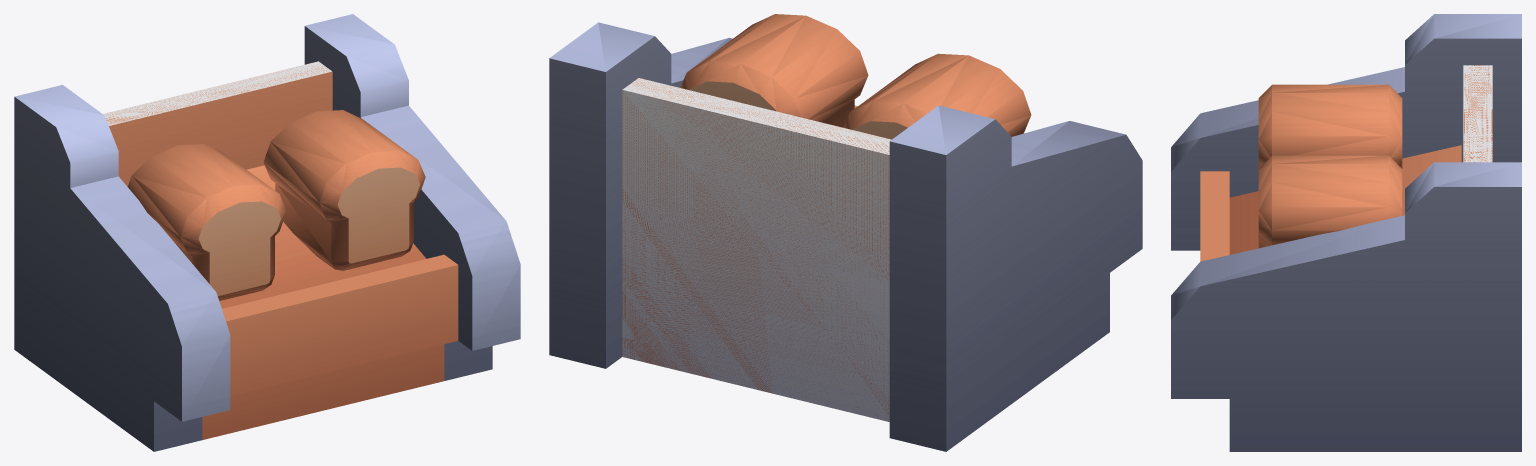
The model's file is display_bread.fbx.
3 views of the same model, side by side, from view 1: azimuth 30°, elevation 25°; view 2: azimuth 150°, elevation 25°; view 3: azimuth 270°, elevation 25° (orthographic). The views are drawn at different scales.
Parts seen in each view (by area): view 1: display_bread_LOD0; view 2: display_bread_LOD0; view 3: display_bread_LOD0.
Boxes of the visible parts, left/top/right/bottom form: display_bread_LOD0: left=14, top=14, right=520, bottom=451; display_bread_LOD0: left=549, top=14, right=1142, bottom=451; display_bread_LOD0: left=1171, top=14, right=1521, bottom=451.
Size of what is drawn, in the model's own units: 1.68 by 1.2 by 1.44.
Materials: 1 (1 with a texture image).
